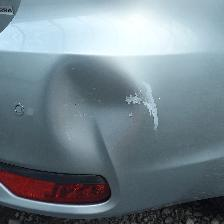dent: (55, 57, 134, 138)
scrach: (141, 88, 158, 112)
